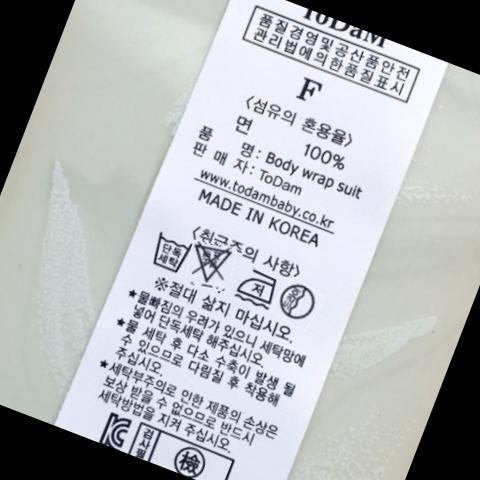dry_clean: (277, 283, 318, 321)
iron_low: (235, 270, 278, 306)
non_chlorine_bleach: (193, 245, 232, 285)
